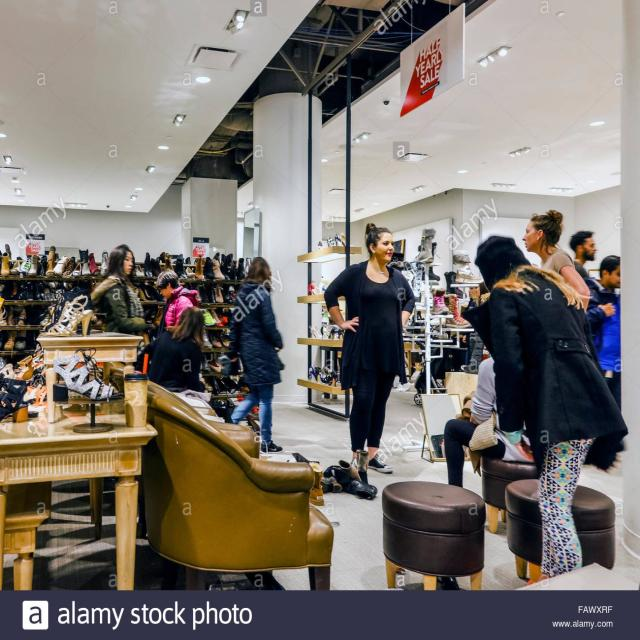body: (139, 305, 380, 640), (459, 232, 630, 588), (322, 219, 418, 482), (442, 355, 539, 489), (226, 255, 286, 456), (521, 208, 592, 313), (89, 243, 150, 360), (582, 254, 622, 414), (154, 266, 201, 338), (567, 230, 602, 292), (464, 286, 477, 366), (474, 279, 491, 306)
